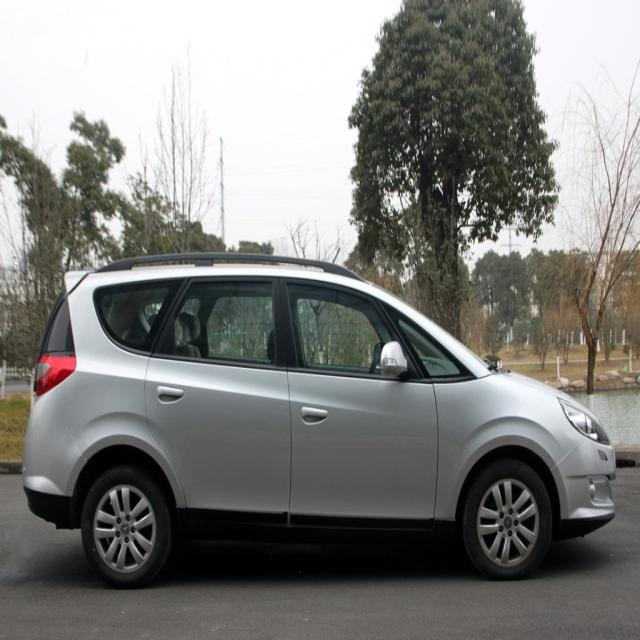back_glass: (40, 276, 78, 356)
back_right_side_light: (31, 346, 78, 397)
door: (144, 278, 285, 529)
front_bumper: (548, 429, 620, 536)
front_right_side_door: (276, 271, 439, 537)
front_right_side_light: (554, 393, 612, 448)
front_right_side_mirror: (379, 338, 412, 381)
rear_bumper: (21, 388, 88, 531)
wheel: (80, 466, 171, 590), (463, 453, 551, 581)
